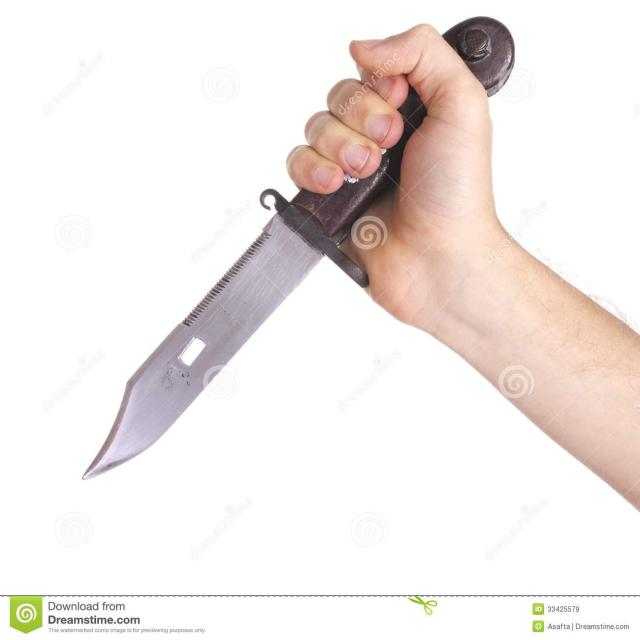knife: (81, 8, 519, 496)
